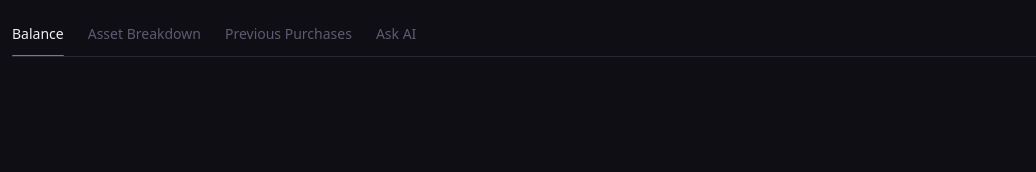
Test case: CryptoTabBar › clicking a tab updates ?tab=
This screenshot has width=1036, height=172.
Click the tab "Previous Purchases".
click(288, 34)  # box [225,12,352,56]
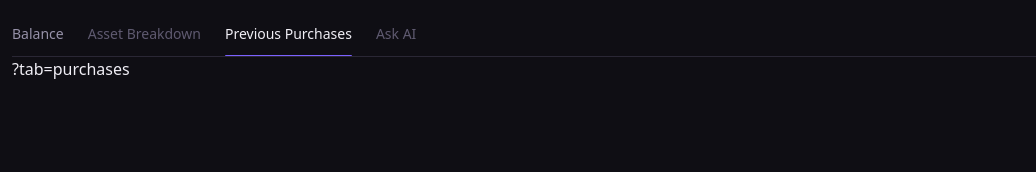
Expected: the text with test id "search" reads "?tab=purchases", [12,58,130,80]
